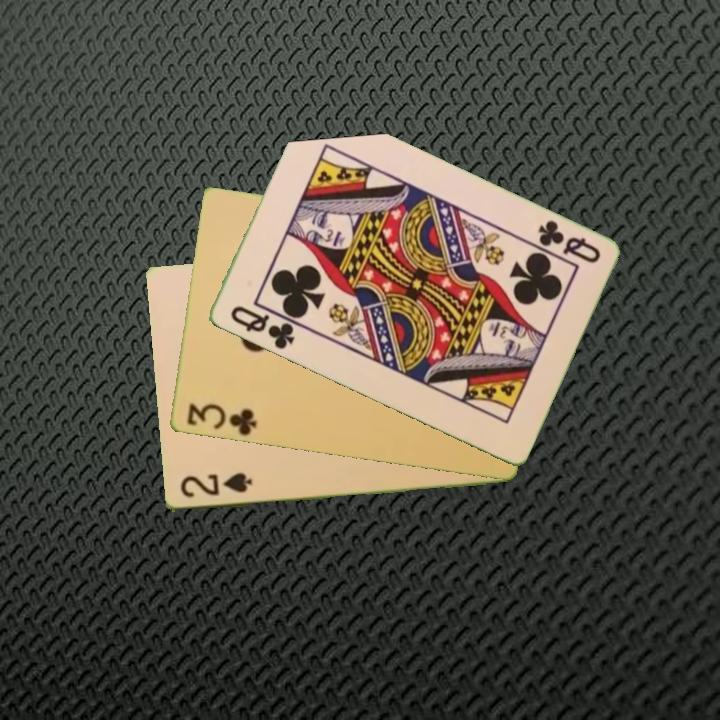2s: (176, 470, 255, 501)
3c: (183, 400, 259, 439)
Qc: (226, 302, 297, 353), (533, 217, 605, 267)
